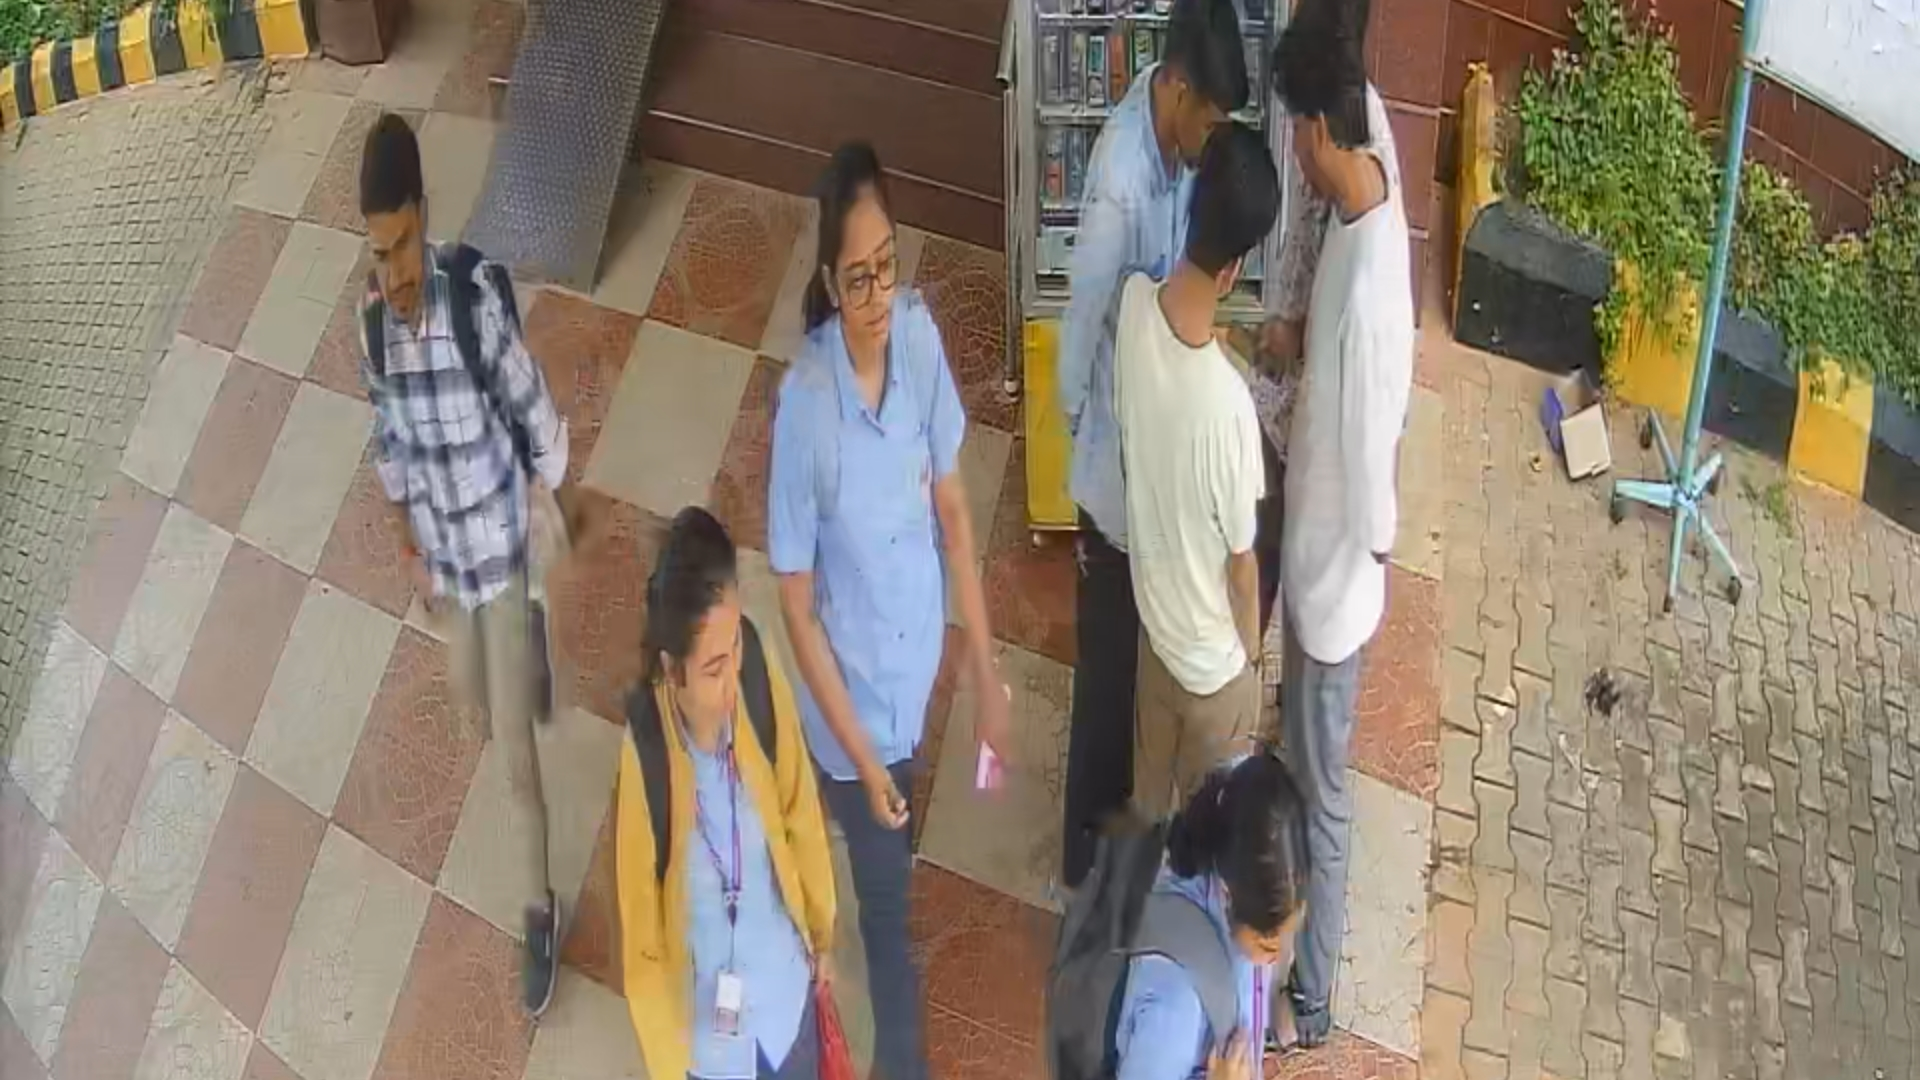intruder: (336, 92, 587, 1052), (764, 128, 978, 1080)
not intruder: (608, 510, 843, 1080)
